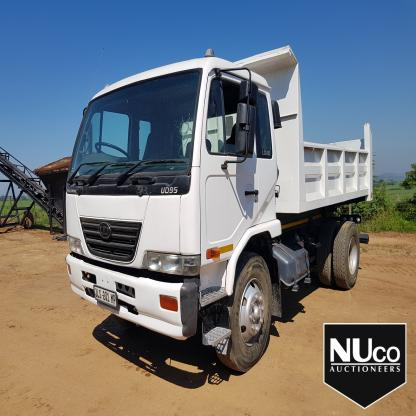dump_truck: (63, 30, 381, 378)
